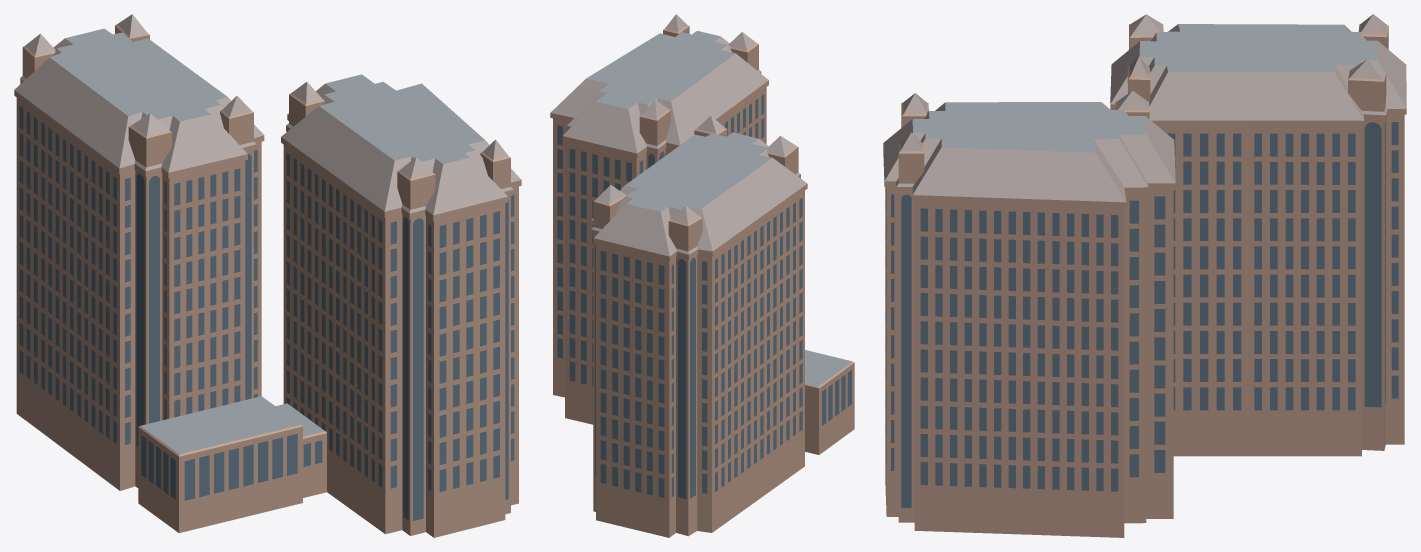
File: ric-riverfront-plaza.glb
3 renders of one model, left to right at view 1: azimuth 30°, elevation 25°; view 2: azimuth 150°, elevation 25°; view 3: azimuth 270°, elevation 25°, orthographic. The views are drawn at different scales.
Parts seen in each view (by area): view 1: Riverfront Plaza; view 2: Riverfront Plaza; view 3: Riverfront Plaza.
Part boxes in pixels (x1,y1,x2,y2): Riverfront Plaza: (14, 14, 521, 537); Riverfront Plaza: (550, 14, 854, 537); Riverfront Plaza: (883, 14, 1406, 537).
Bounding box in the file's own units: 88.35 × 103 × 127.
